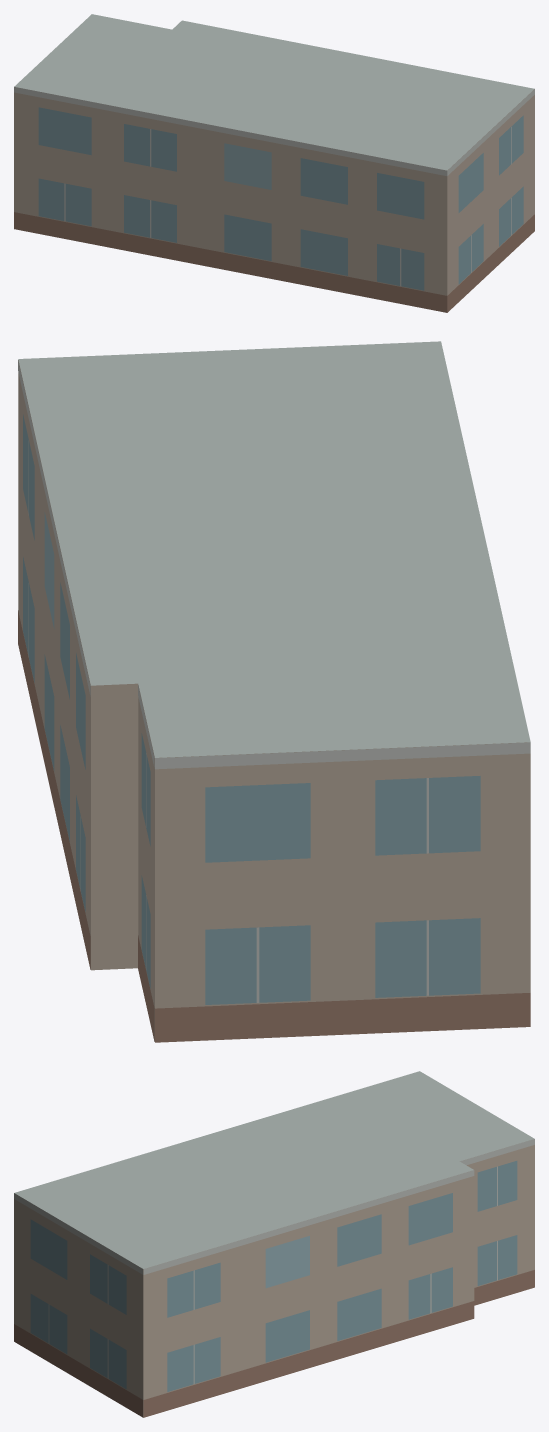
The model's file is survey-upis-32904590.glb.
The picture shows the model from 3 angles, top to bottom: view 1: azimuth 30°, elevation 25°; view 2: azimuth 150°, elevation 25°; view 3: azimuth 270°, elevation 25°; orthographic projection. The views are drawn at different scales.
Parts seen in each view (by area): view 1: survey-upis-32904590.tmp; view 2: survey-upis-32904590.tmp; view 3: survey-upis-32904590.tmp.
Part boxes in pixels (left/top/right/bottom): survey-upis-32904590.tmp: left=14, top=14, right=534, bottom=312; survey-upis-32904590.tmp: left=18, top=341, right=530, bottom=1042; survey-upis-32904590.tmp: left=14, top=1071, right=534, bottom=1417.
Bounding box in the file's own units: 17.44 × 6.1 × 19.37.
